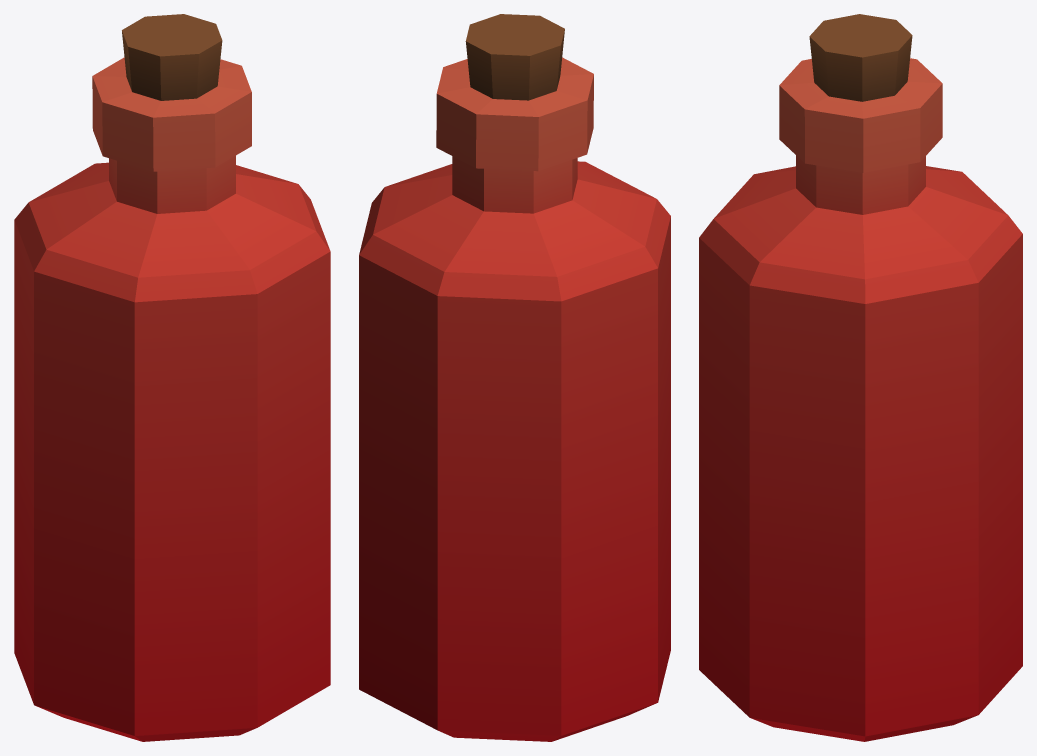
File: health_large.glb
3 views of the same model, side by side, from view 1: azimuth 30°, elevation 25°; view 2: azimuth 150°, elevation 25°; view 3: azimuth 270°, elevation 25° (orthographic).
Visible parts, largest first — view 1: potion_009_red; view 2: potion_009_red; view 3: potion_009_red.
Boxes of the visible parts, left/top/right/bottom form: potion_009_red: left=14, top=14, right=330, bottom=741; potion_009_red: left=359, top=14, right=670, bottom=741; potion_009_red: left=699, top=14, right=1022, bottom=741.
Bounding box in the file's own units: 0.18 × 0.4 × 0.18.
1 material, 1 textured.
